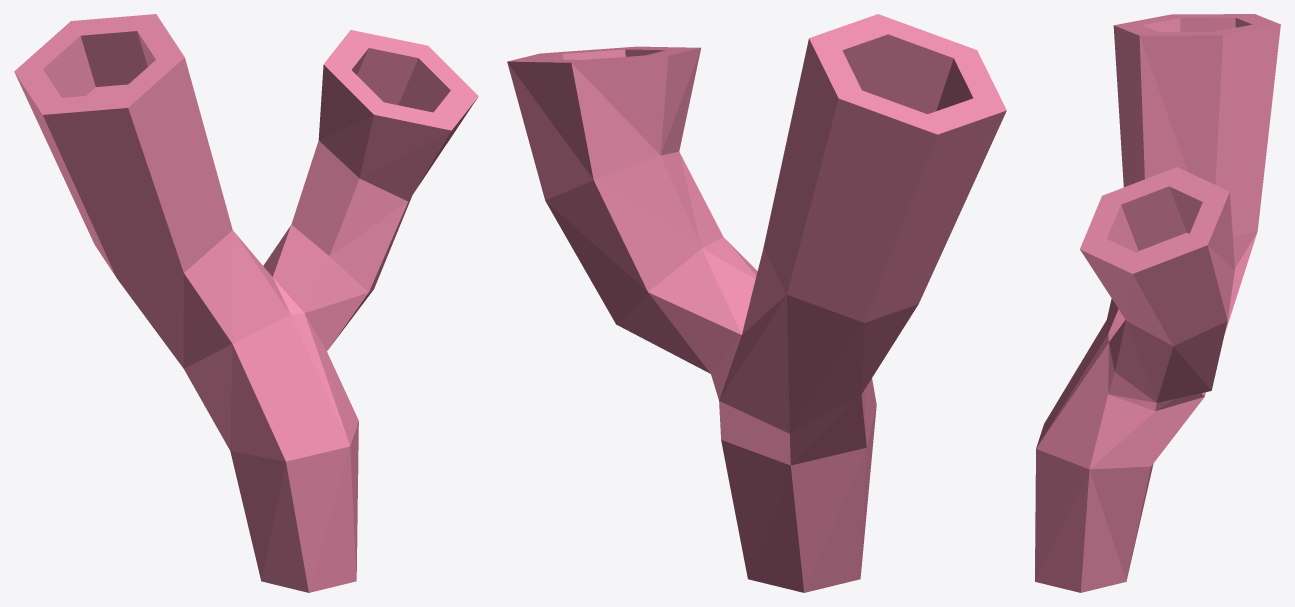
File: Coral_001.fbx
The picture shows the model from 3 angles, left to right: view 1: azimuth 30°, elevation 25°; view 2: azimuth 150°, elevation 25°; view 3: azimuth 270°, elevation 25°; orthographic projection. The views are drawn at different scales.
Parts seen in each view (by area): view 1: Coral_001; view 2: Coral_001; view 3: Coral_001.
Part boxes in pixels (<box>): Coral_001: <box>14,14,478,592</box>; Coral_001: <box>507,14,1006,592</box>; Coral_001: <box>1035,14,1280,592</box>.
Size of the model in its own units: 22.2 by 11.86 by 26.55.
Materials: 1 (1 with a texture image).
